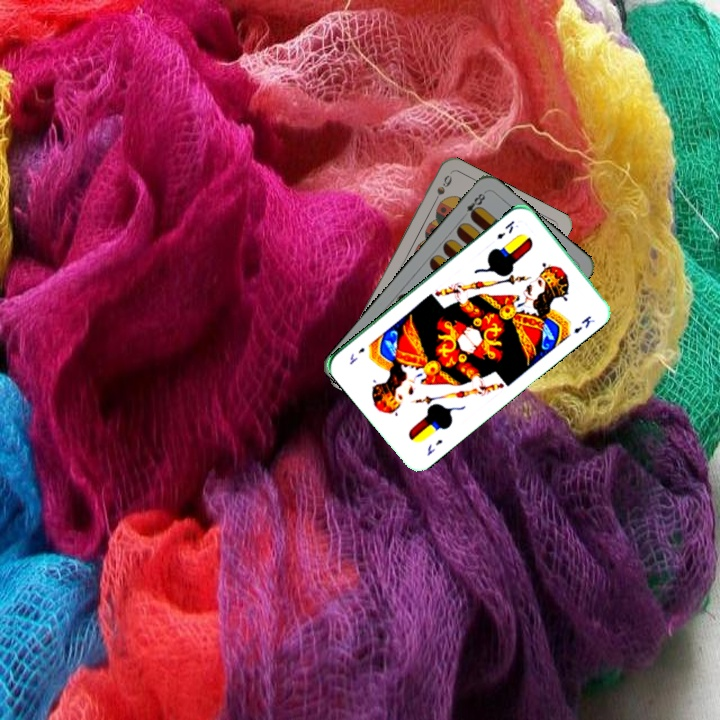E8: (462, 188, 488, 221)
EK: (493, 216, 517, 242), (423, 435, 445, 458)
S9: (429, 171, 455, 208)
